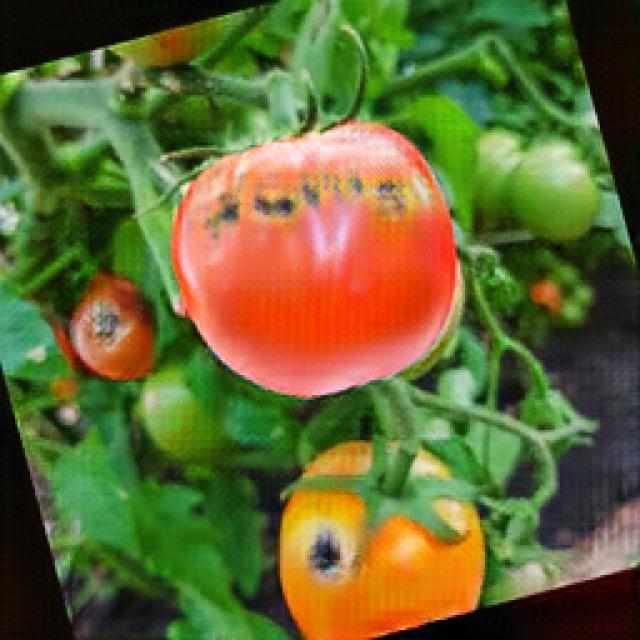overripe tomato: (174, 117, 454, 403), (280, 434, 486, 638), (66, 269, 157, 382)
